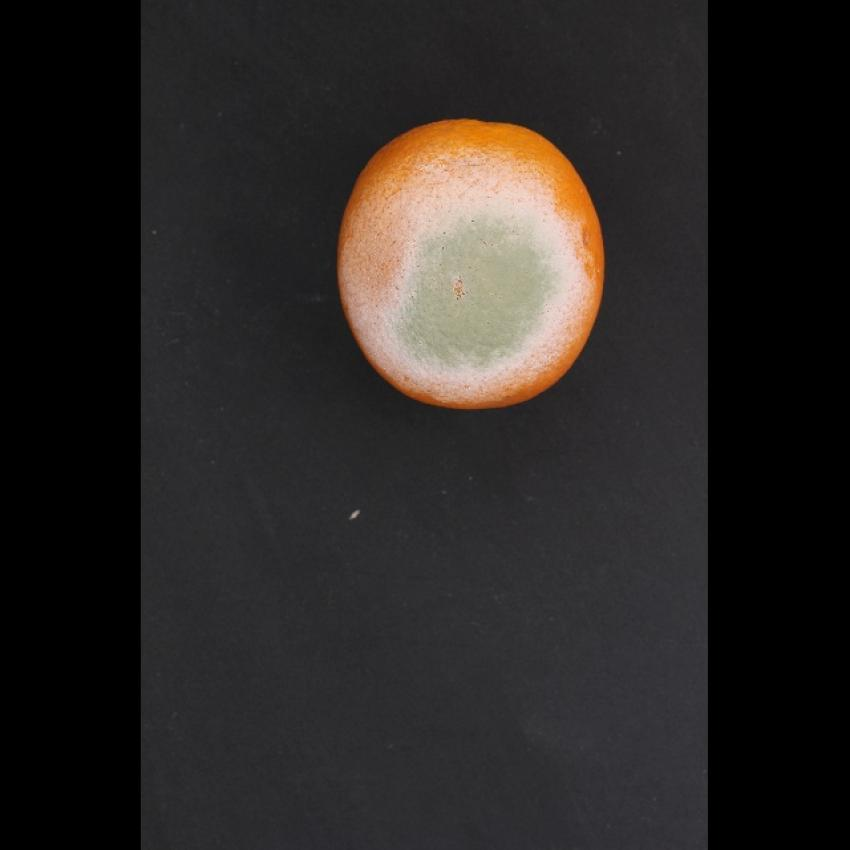Mal estado: (327, 93, 616, 425)
